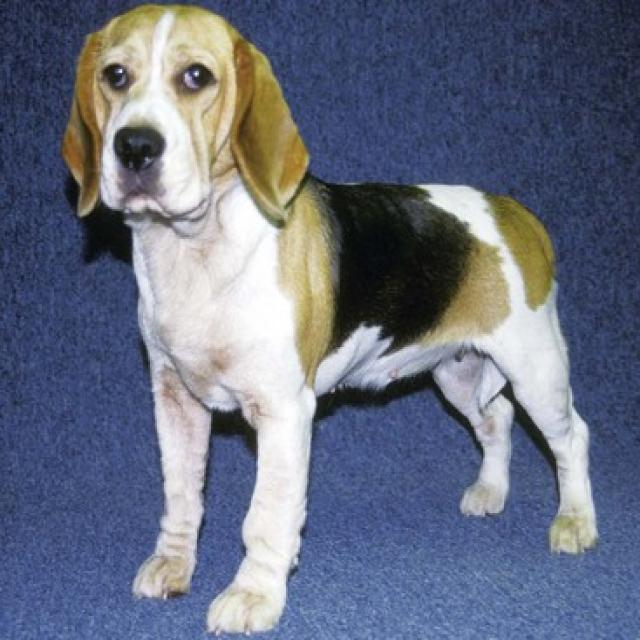cho khoe manh: (59, 0, 591, 586)
